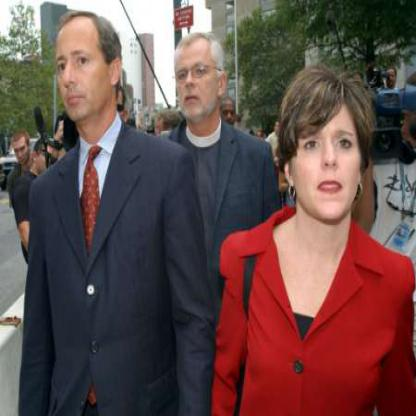face: (290, 74, 366, 223), (53, 15, 111, 124), (175, 38, 222, 120), (14, 135, 31, 168), (221, 100, 238, 132), (387, 70, 398, 89)
